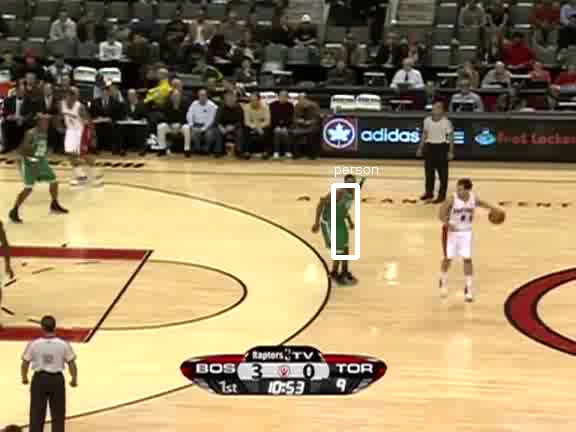person: (320, 184, 354, 265), (319, 184, 353, 265), (321, 184, 355, 265), (320, 183, 354, 264), (320, 185, 354, 266)
target_negative: (195, 290, 560, 395), (417, 118, 505, 369), (494, 24, 564, 173), (359, 207, 429, 340), (559, 261, 569, 312), (435, 325, 444, 342)
